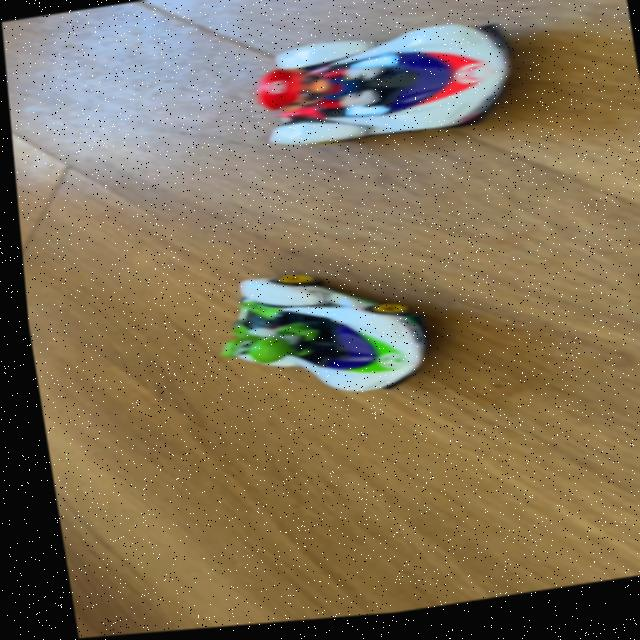mario: (245, 13, 548, 169)
yoshi: (184, 254, 449, 432)
